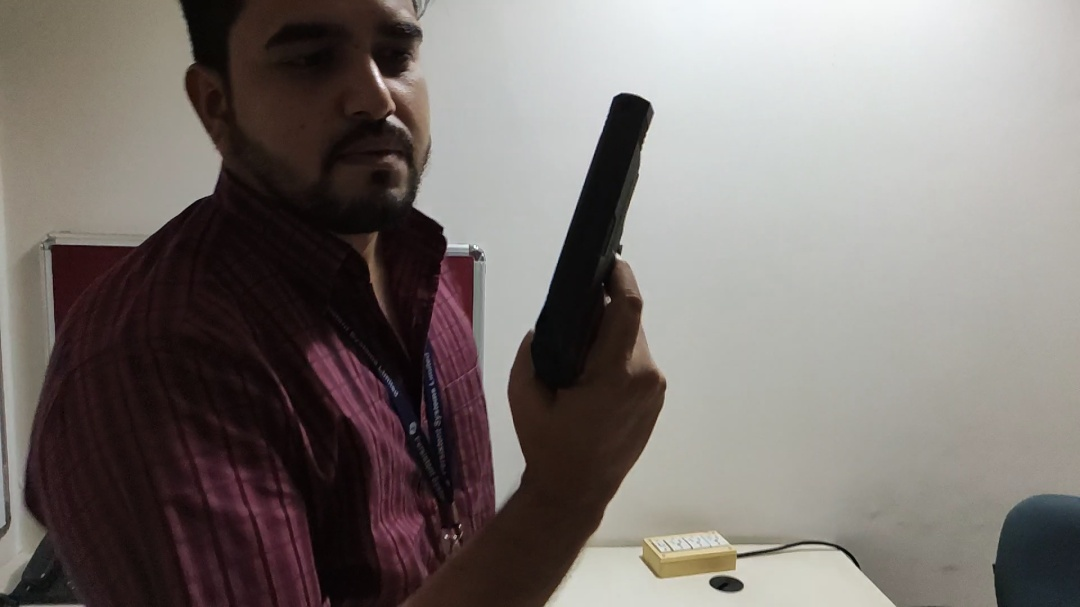gun: (508, 79, 694, 451)
